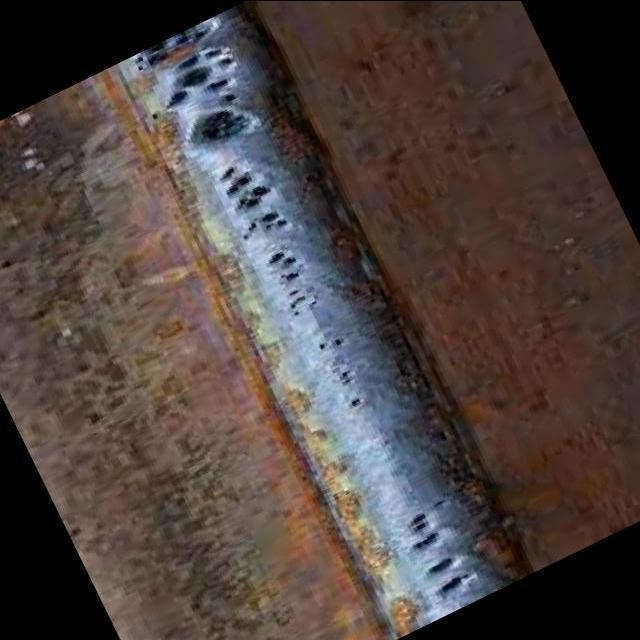defect: (214, 159, 295, 243), (125, 19, 224, 73), (160, 44, 235, 111), (393, 490, 456, 557), (188, 89, 257, 148), (419, 555, 475, 605), (260, 247, 306, 289), (276, 284, 326, 321), (339, 394, 367, 417), (335, 365, 360, 389), (314, 337, 347, 354)
